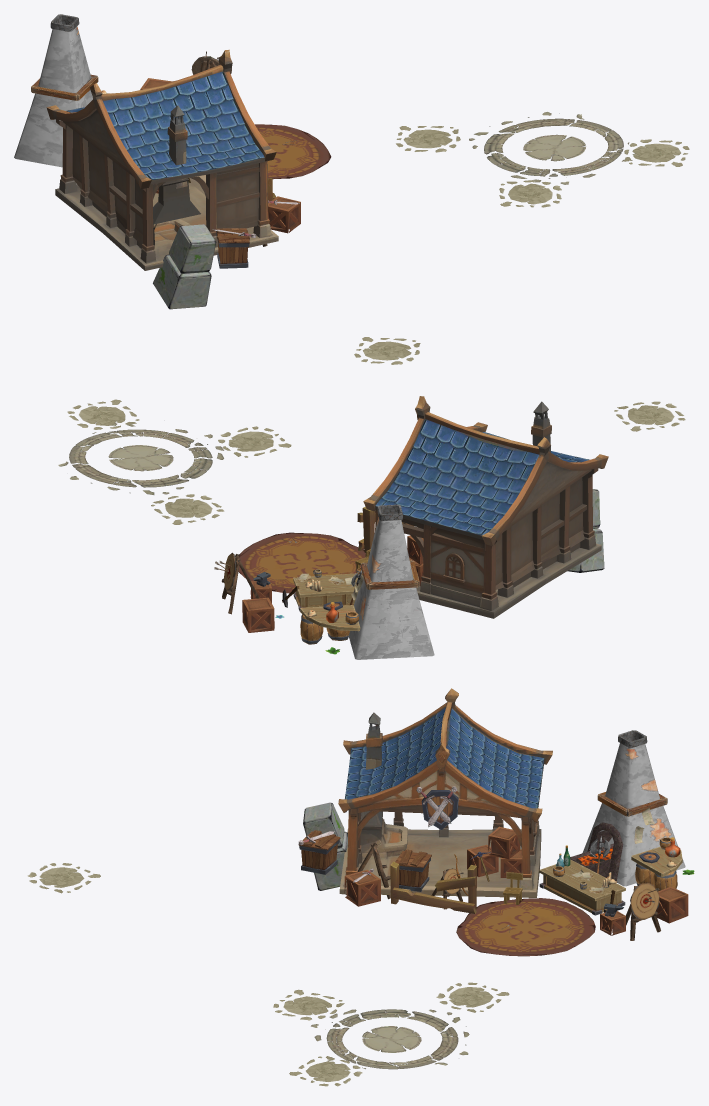
File: MainCityDecor_Smith_Town.glb
3 renders of one model, top to bottom at view 1: azimuth 30°, elevation 25°; view 2: azimuth 150°, elevation 25°; view 3: azimuth 270°, elevation 25°, orthographic. The views are drawn at different scales.
Parts seen in each view (by area): view 1: EnvMaincity_Detail__Smithy__u9004719294009396819, EnvMaincity_Detail__Furnance__un6972753146184774061, EnvMaincity_Detail__BigStoneCircle__u7576568458190999123, EnvCampsite_Detail__Stele__3_1__un3435567187066597805, EnvCampsite_Detail__Rug__3__u2279710525328019027, EnvCampsite_Detail__Box___2_1__un6312160739286233517, EnvMaincity_Detail__StoneCircle_3__un2574976190817481133, EnvMaincity_Detail__StoneCircle_1__un3713948588837876141, EnvMaincity_Detail__StoneCircle_2__un9132441247704527277, EnvMaincity_Detail__StoneCircle__un5096089009136185773, EnvCampsite_Detail__Box__1_11__un4557279804645814701; view 2: EnvMaincity_Detail__Smithy__u9004719294009396819, EnvMaincity_Detail__Furnance__un6972753146184774061, EnvCampsite_Detail__Rug__3__u2279710525328019027, EnvMaincity_Detail__BigStoneCircle__u7576568458190999123, EnvMaincity_Detail__Table___1__un5430612826475508141, EnvMaincity_Detail__StoneCircle_2__un9132441247704527277, EnvMaincity_Detail__StoneCircle__un5096089009136185773, EnvMaincity_Detail__StoneCircle_1__un3713948588837876141, EnvMaincity_Detail__StoneCircle_3__un2574976190817481133, EnvCampsite_Detail__Box___1__u2308703618562346579, EnvCampsite_Detail__Stele__3_1__un3435567187066597805, EnvMaincity_Detail__Table___2__un2469877335996871085 (+3 smaller); view 3: EnvMaincity_Detail__Smithy__u9004719294009396819, EnvMaincity_Detail__Furnance__un6972753146184774061, EnvCampsite_Detail__Rug__3__u2279710525328019027, EnvMaincity_Detail__BigStoneCircle__u7576568458190999123, EnvMaincity_Detail__Table___1__un5430612826475508141, EnvCampsite_Detail__Fence__1_1__un8083367052815806893, EnvCampsite_Detail__Stele__3_1__un3435567187066597805, EnvCampsite_Detail__Box___2_1__un6312160739286233517, EnvCampsite_Detail__Box__2_18__un8269601546471190957, EnvCampsite_Detail__Box__1_11__un4557279804645814701, EnvMaincity_Detail__StoneCircle__un5096089009136185773, EnvMaincity_Detail__StoneCircle_1__un3713948588837876141 (+8 smaller).
Boxes of the visible parts, box(x1,y1,x2,y2) form: EnvMaincity_Detail__Smithy__u9004719294009396819: box(46, 49, 278, 270); EnvMaincity_Detail__Furnance__un6972753146184774061: box(14, 14, 98, 167); EnvMaincity_Detail__BigStoneCircle__u7576568458190999123: box(469, 112, 637, 184); EnvCampsite_Detail__Stele__3_1__un3435567187066597805: box(153, 224, 216, 309); EnvCampsite_Detail__Rug__3__u2279710525328019027: box(255, 124, 331, 179); EnvCampsite_Detail__Box___2_1__un6312160739286233517: box(216, 228, 249, 268); EnvMaincity_Detail__StoneCircle_3__un2574976190817481133: box(624, 139, 689, 166); EnvMaincity_Detail__StoneCircle_1__un3713948588837876141: box(354, 337, 420, 364); EnvMaincity_Detail__StoneCircle_2__un9132441247704527277: box(396, 126, 460, 152); EnvMaincity_Detail__StoneCircle__un5096089009136185773: box(499, 180, 561, 207); EnvCampsite_Detail__Box__1_11__un4557279804645814701: box(268, 196, 300, 233); EnvMaincity_Detail__Smithy__u9004719294009396819: box(363, 396, 608, 618); EnvMaincity_Detail__Furnance__un6972753146184774061: box(349, 504, 434, 659); EnvCampsite_Detail__Rug__3__u2279710525328019027: box(238, 532, 368, 593); EnvMaincity_Detail__BigStoneCircle__u7576568458190999123: box(58, 422, 223, 494); EnvMaincity_Detail__Table___1__un5430612826475508141: box(293, 573, 357, 612); EnvMaincity_Detail__StoneCircle_2__un9132441247704527277: box(151, 494, 224, 524); EnvMaincity_Detail__StoneCircle__un5096089009136185773: box(218, 426, 291, 457); EnvMaincity_Detail__StoneCircle_1__un3713948588837876141: box(614, 401, 685, 431); EnvMaincity_Detail__StoneCircle_3__un2574976190817481133: box(67, 399, 139, 429); EnvCampsite_Detail__Box___1__u2308703618562346579: box(242, 597, 274, 632); EnvCampsite_Detail__Stele__3_1__un3435567187066597805: box(567, 489, 604, 572); EnvMaincity_Detail__Table___2__un2469877335996871085: box(300, 605, 360, 631); EnvMaincity_Detail__Smithy__u9004719294009396819: box(338, 688, 552, 897); EnvMaincity_Detail__Furnance__un6972753146184774061: box(570, 730, 685, 886); EnvCampsite_Detail__Rug__3__u2279710525328019027: box(456, 898, 595, 956); EnvMaincity_Detail__BigStoneCircle__u7576568458190999123: box(311, 1009, 469, 1069); EnvMaincity_Detail__Table___1__un5430612826475508141: box(539, 859, 625, 915); EnvCampsite_Detail__Fence__1_1__un8083367052815806893: box(390, 861, 476, 913); EnvCampsite_Detail__Stele__3_1__un3435567187066597805: box(303, 802, 347, 890); EnvCampsite_Detail__Box___2_1__un6312160739286233517: box(298, 830, 340, 874); EnvCampsite_Detail__Box__2_18__un8269601546471190957: box(395, 849, 431, 891); EnvCampsite_Detail__Box__1_11__un4557279804645814701: box(344, 869, 380, 906); EnvMaincity_Detail__StoneCircle__un5096089009136185773: box(273, 989, 344, 1020); EnvMaincity_Detail__StoneCircle_1__un3713948588837876141: box(27, 863, 100, 893).
Bounding box in the file's own units: 19.12 × 6.39 × 20.87.
Materials: 25 (25 with a texture image).
